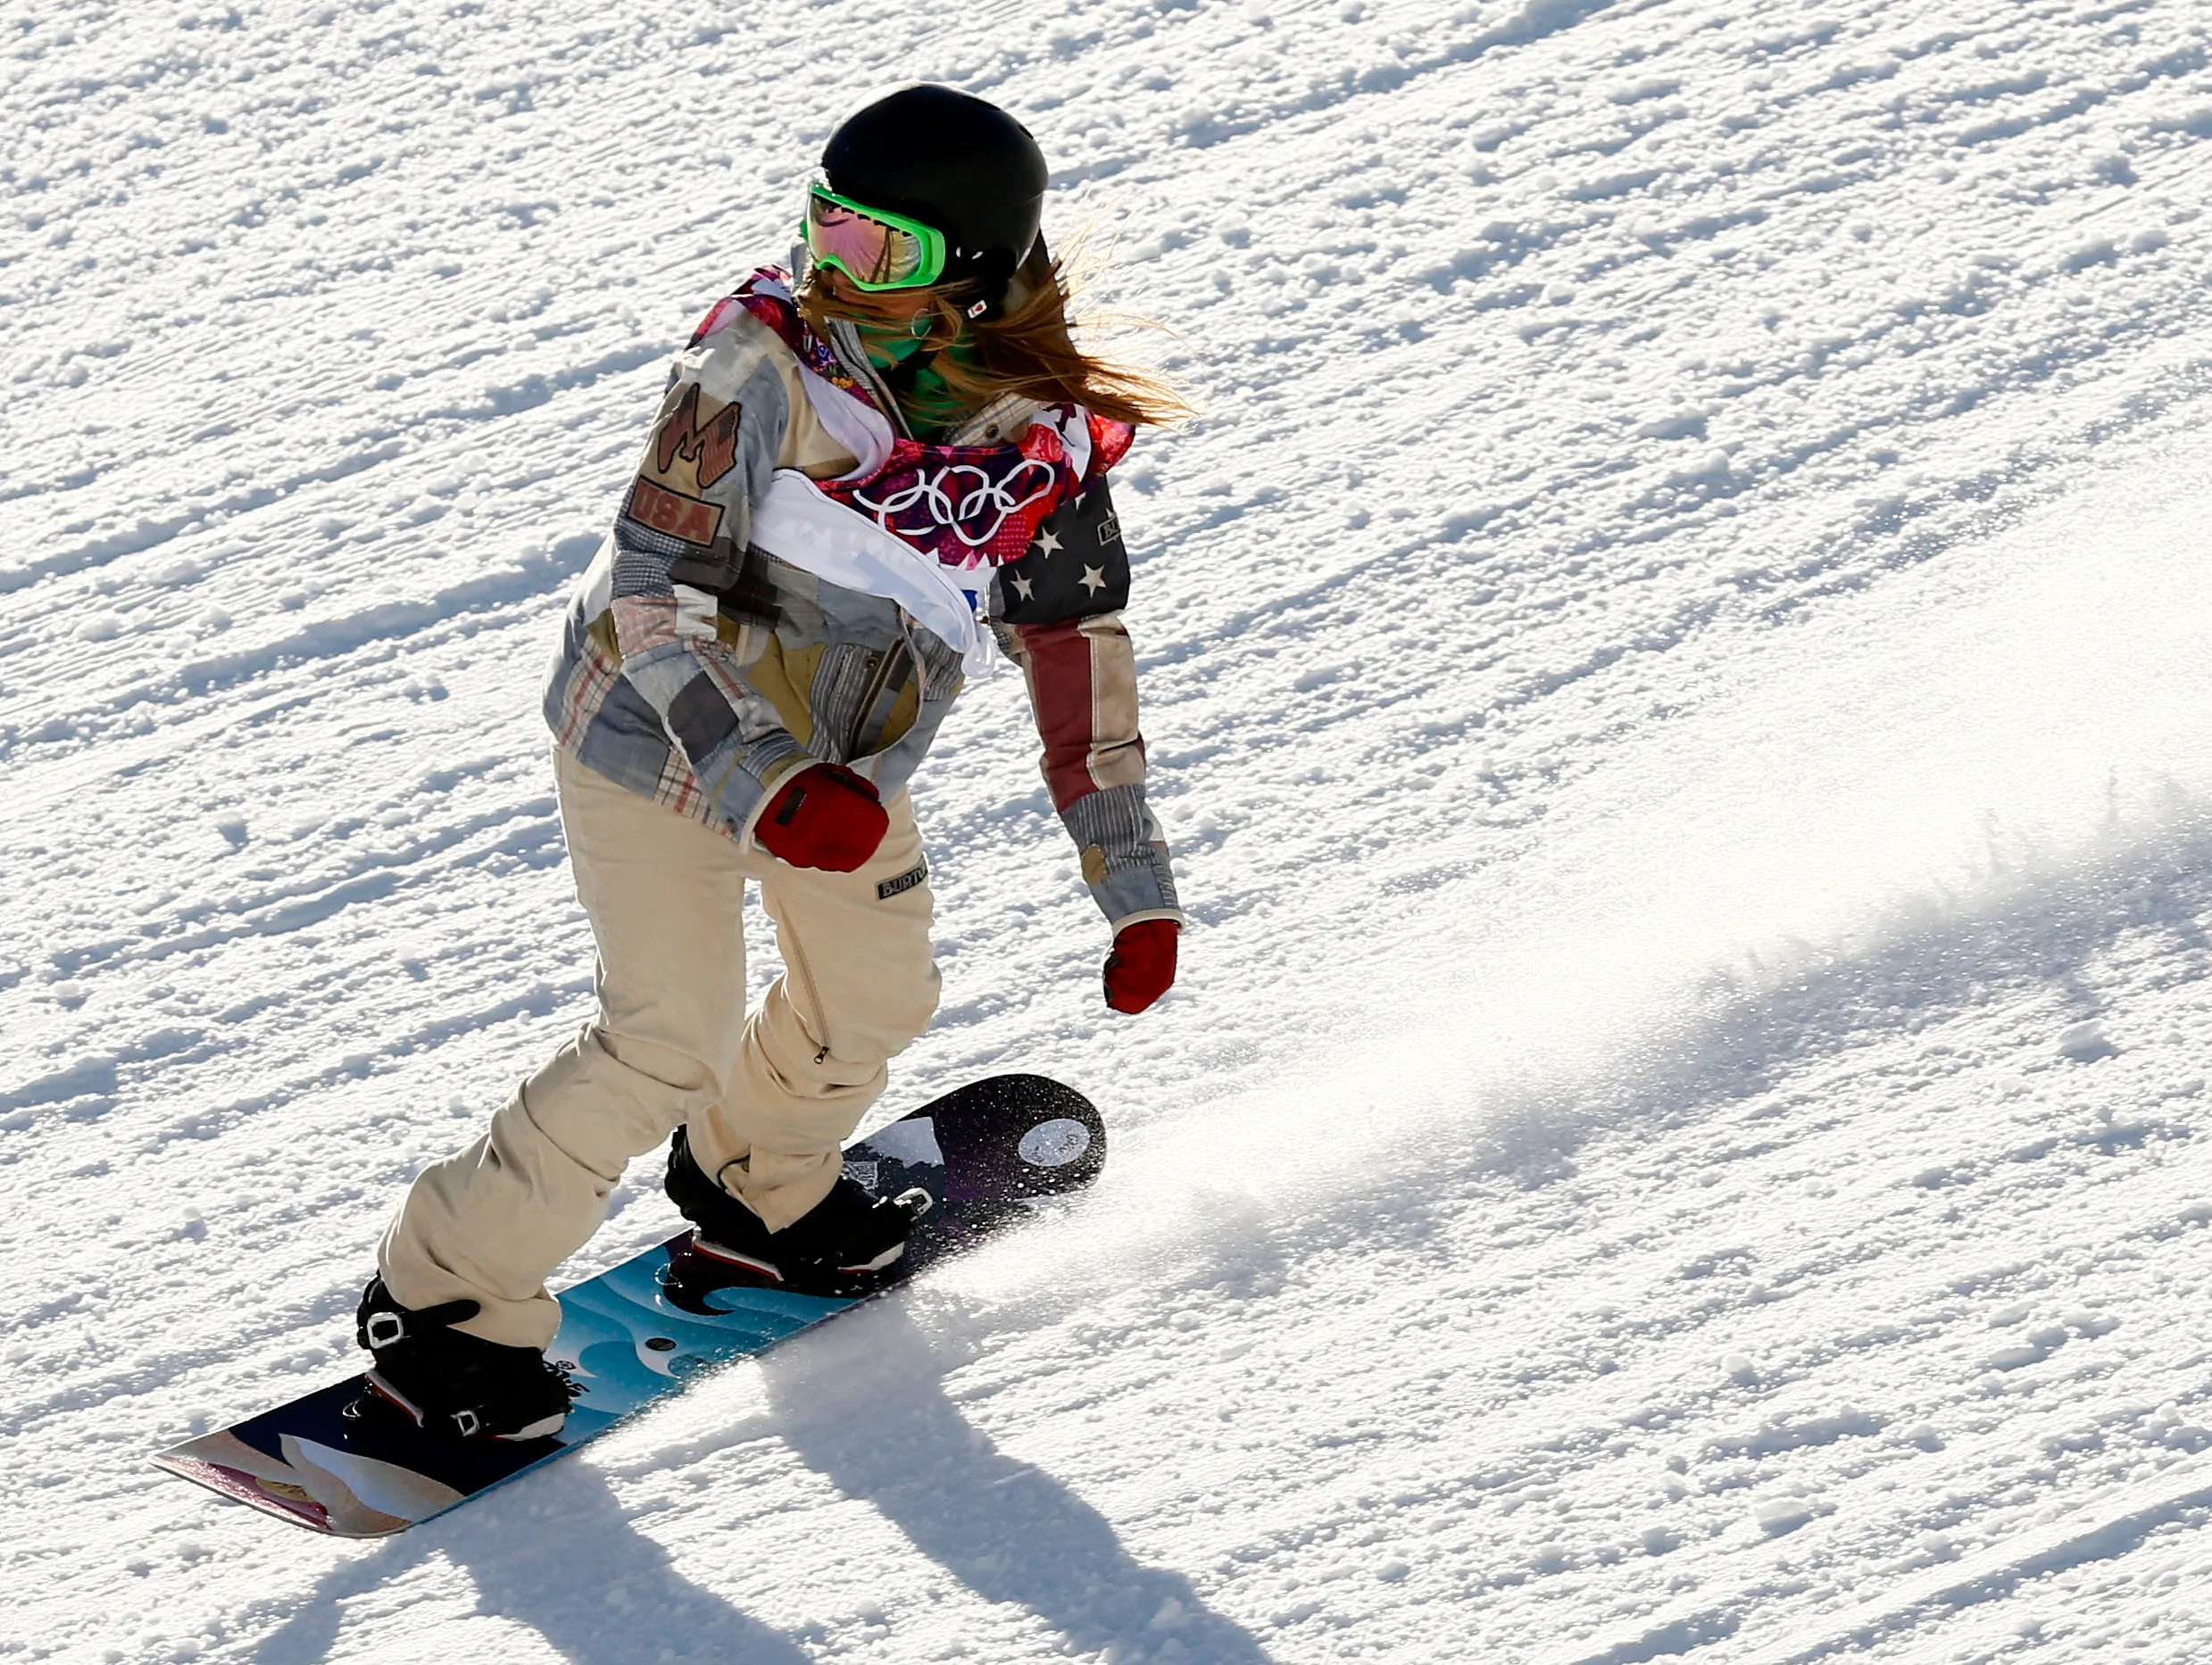snowboarder: (140, 68, 1203, 1560)
